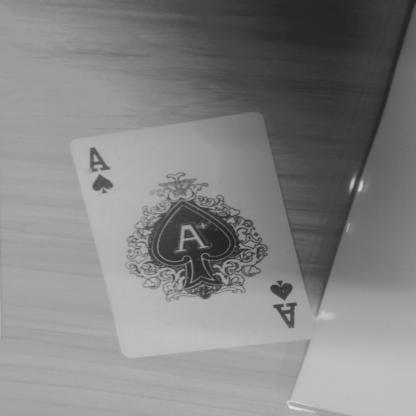AS: (80, 141, 126, 199), (268, 275, 314, 333)
